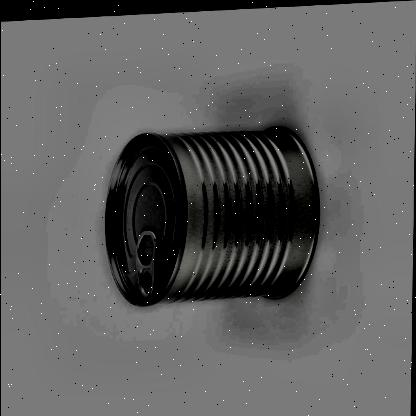Can: (93, 116, 329, 310)
